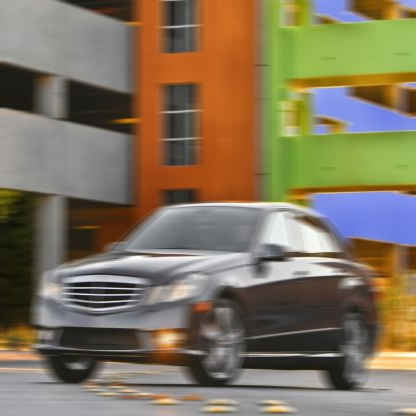Vehicle: (29, 204, 385, 391)
